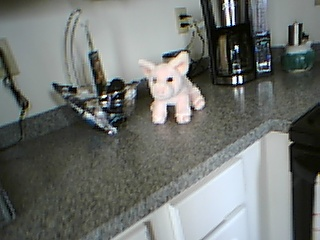piggy: (137, 50, 207, 126)
